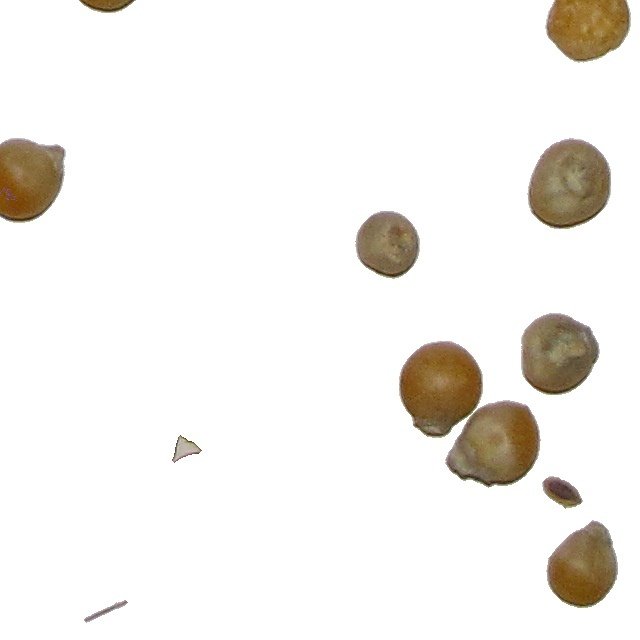buckwheat: (541, 475, 584, 510)
dill: (83, 599, 129, 624), (171, 434, 203, 464)
mais: (444, 399, 542, 489), (398, 340, 484, 439), (526, 137, 612, 230), (520, 312, 601, 396), (545, 519, 619, 609), (354, 210, 421, 280)
